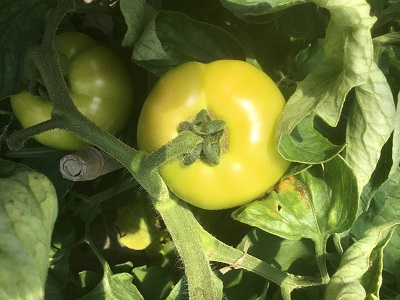immature-tomato: (137, 61, 293, 210), (9, 29, 134, 142)
